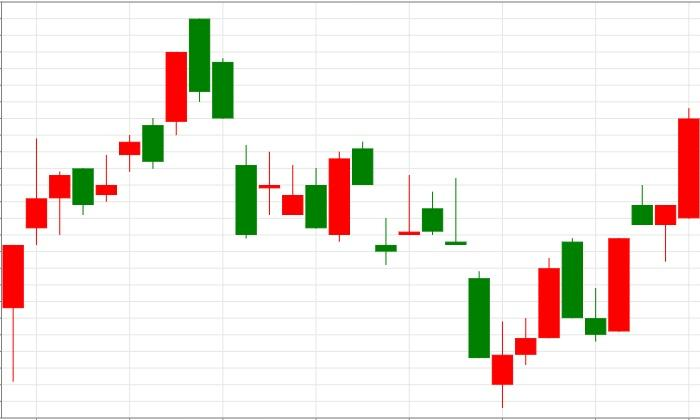three_white_soldiers_rise: (422, 178, 559, 408)
